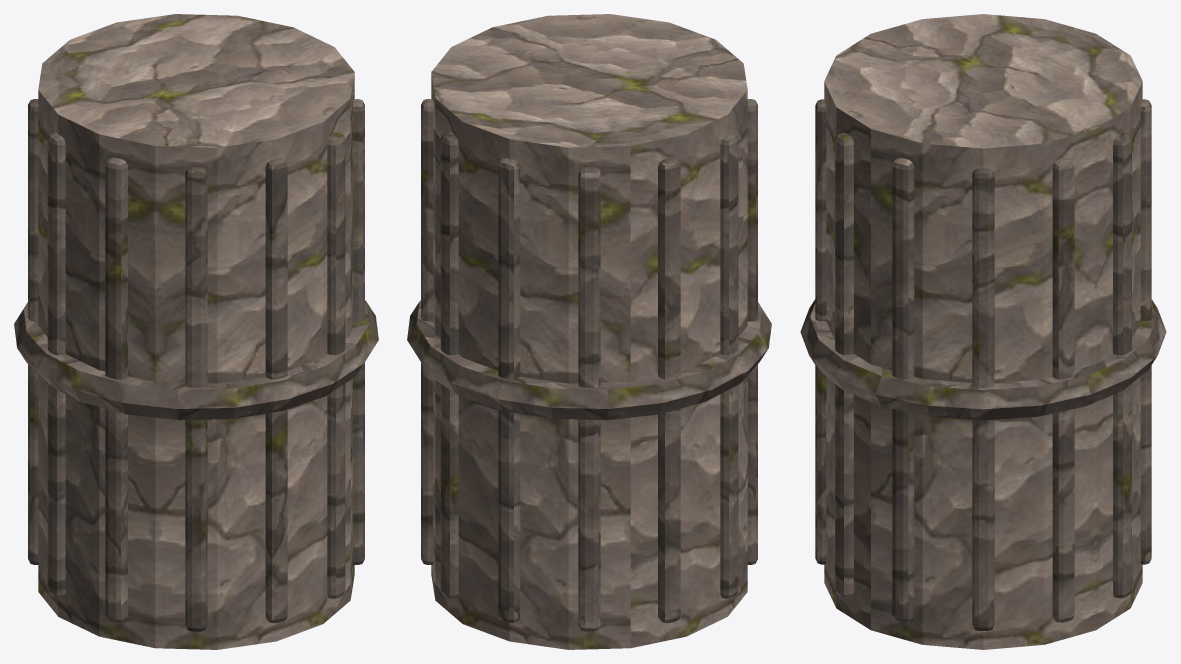
Rendered from column_shaft__cut_stone.glb.
3 renders of one model, left to right at view 1: azimuth 30°, elevation 25°; view 2: azimuth 150°, elevation 25°; view 3: azimuth 270°, elevation 25°, orthographic.
Visible parts, largest first — view 1: model; view 2: model; view 3: model.
Boxes of the visible parts, x1,y1,x2,y2 form: model: (14, 14, 378, 649); model: (407, 14, 771, 649); model: (800, 14, 1166, 649).
Bounding box in the file's own units: 0.662 × 1 × 0.662.
Materials: 2 (2 with a texture image).
